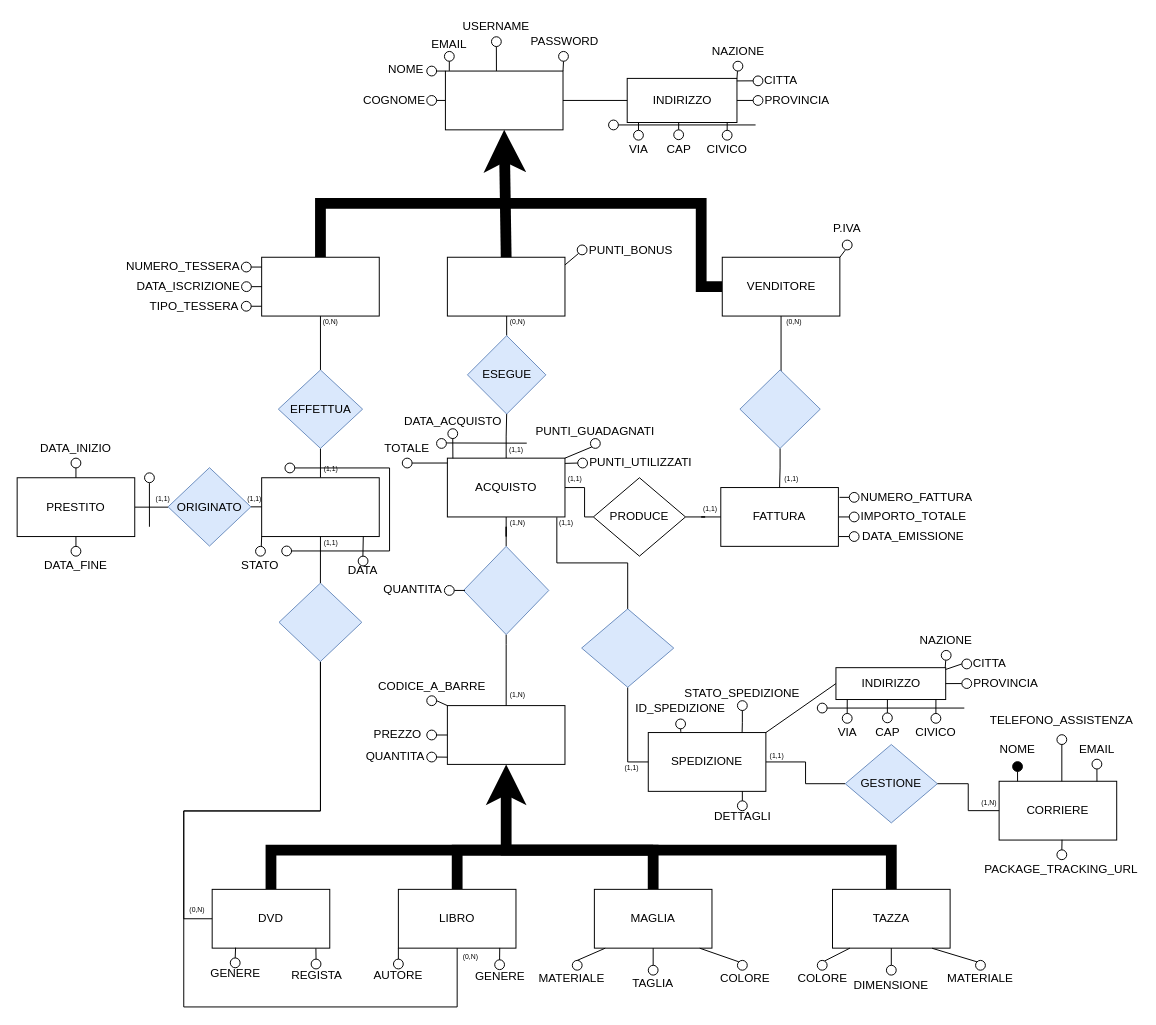
Image size: 1156x1025. Some labels were removed from this diagram. Here are the shapes that lost their labels. From the top down, the centre of each, then its label:
point (503, 100): UTENTE
point (320, 286): FRUITORE
point (505, 286): CLIENTE
point (779, 408): EMETTE
point (320, 507): PRENOTAZIONE
point (506, 590): CONTENUTO
point (320, 622): RIGUARDA
point (627, 647): GENERA
point (505, 734): OGGETTO
